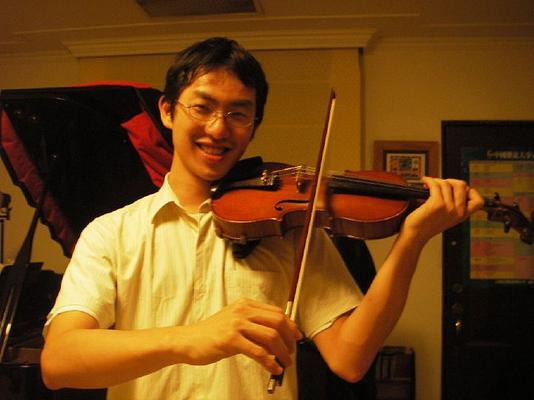person: (40, 35, 482, 400)
